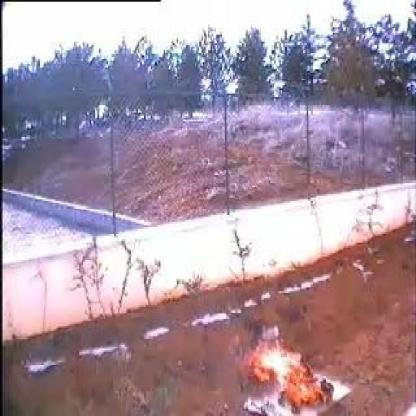-: (245, 316, 262, 350)
foggia-v2-map80-epoch100 - v1 4323: (251, 354, 325, 406)
